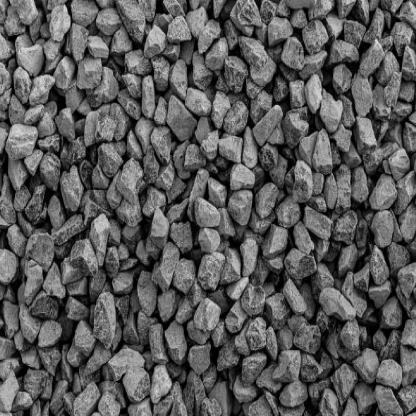Sedimentary_Limestone: (237, 31, 276, 89), (165, 92, 200, 148), (108, 336, 147, 386), (112, 0, 157, 43), (191, 294, 229, 340), (64, 316, 92, 370), (115, 159, 147, 206), (132, 274, 166, 318), (25, 229, 61, 270), (350, 347, 386, 388), (162, 318, 189, 368), (272, 351, 306, 390), (91, 295, 116, 348), (147, 200, 172, 252), (152, 238, 177, 289), (256, 98, 283, 145), (48, 3, 76, 48), (235, 237, 263, 282), (367, 206, 395, 251), (83, 105, 112, 148), (146, 359, 173, 405), (3, 121, 38, 156), (238, 289, 272, 325), (223, 98, 252, 140), (15, 34, 42, 78), (123, 365, 152, 405), (323, 291, 356, 326), (40, 150, 64, 198), (70, 378, 101, 415), (73, 58, 106, 92), (234, 350, 266, 385), (218, 127, 248, 164), (165, 12, 192, 53), (90, 208, 110, 263), (373, 177, 401, 216), (332, 207, 358, 249), (228, 162, 258, 198), (69, 240, 99, 276), (350, 72, 371, 122), (283, 275, 309, 315), (292, 215, 316, 258), (301, 18, 328, 56), (204, 31, 229, 72), (302, 74, 327, 115), (281, 32, 304, 76), (207, 172, 234, 209), (263, 222, 288, 261), (291, 162, 313, 206), (136, 75, 158, 119), (229, 188, 253, 228), (381, 300, 405, 338), (196, 192, 221, 228), (376, 362, 404, 394), (12, 68, 35, 105), (0, 248, 24, 283), (0, 304, 22, 340), (208, 385, 234, 415), (200, 218, 221, 255), (310, 132, 327, 177), (142, 28, 168, 57), (354, 165, 369, 209), (110, 27, 132, 56)
